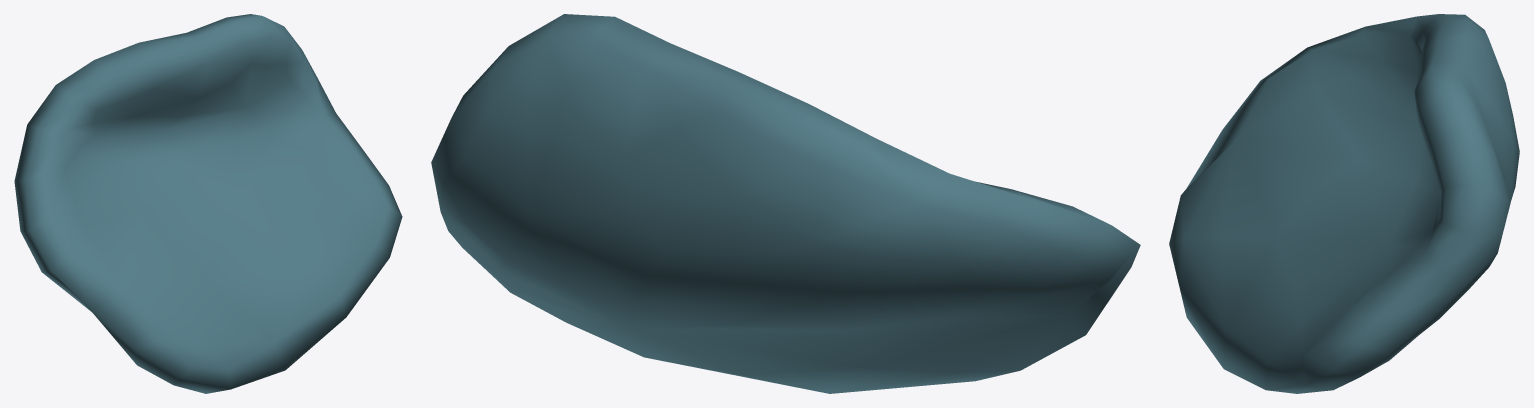
The model's file is Flexor_digitorum_longus_2nd_distal_phalanx_left.glb.
The picture shows the model from 3 angles, left to right: view 1: azimuth 30°, elevation 25°; view 2: azimuth 150°, elevation 25°; view 3: azimuth 270°, elevation 25°; orthographic projection. The views are drawn at different scales.
Visible parts, largest first — view 1: Flexor_digitorum_longus_on_2d_distal_phalanx.l_Generated_Mes; view 2: Flexor_digitorum_longus_on_2d_distal_phalanx.l_Generated_Mes; view 3: Flexor_digitorum_longus_on_2d_distal_phalanx.l_Generated_Mes.
Part boxes in pixels (x1,y1,x2,y2): Flexor_digitorum_longus_on_2d_distal_phalanx.l_Generated_Mes: (14,14,402,393); Flexor_digitorum_longus_on_2d_distal_phalanx.l_Generated_Mes: (431,14,1140,393); Flexor_digitorum_longus_on_2d_distal_phalanx.l_Generated_Mes: (1169,14,1519,393).
Bounding box in the file's own units: 0.0036 × 0.00249 × 0.00244.
